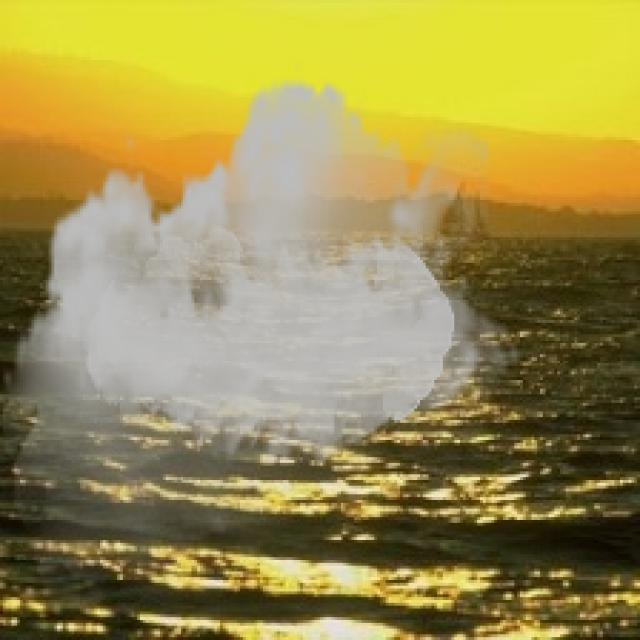smoke: (3, 57, 523, 623)
